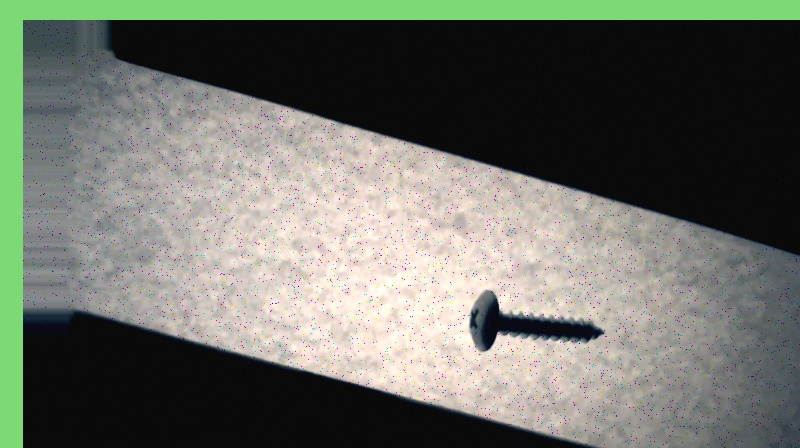S003: (464, 287, 607, 352)
